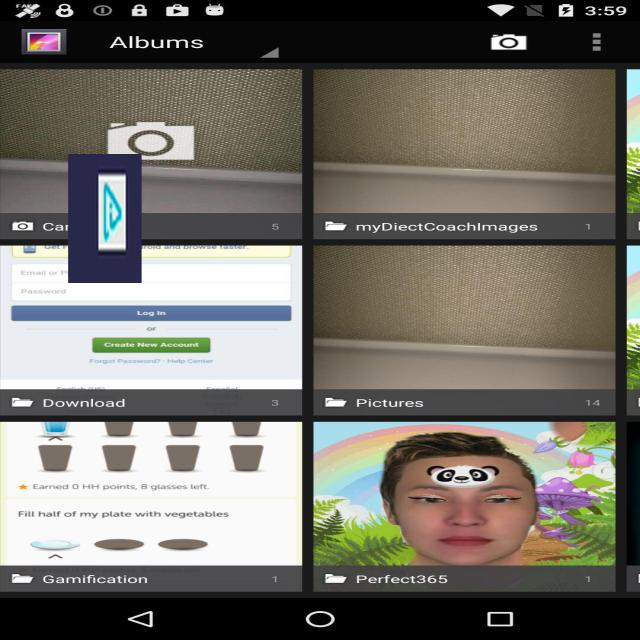sneaking: (68, 154, 142, 283)
